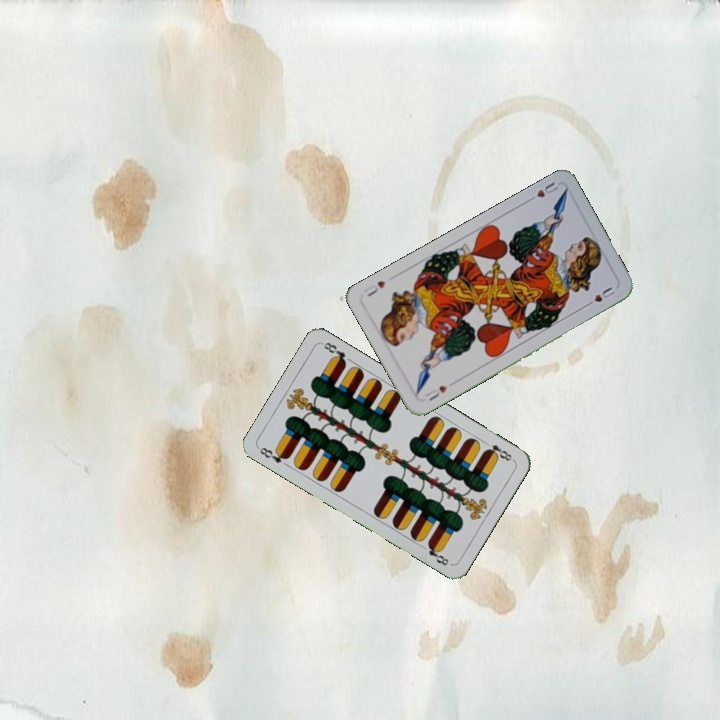E8: (480, 437, 516, 464), (256, 443, 291, 466)
HU: (523, 178, 561, 205), (422, 381, 450, 403)
